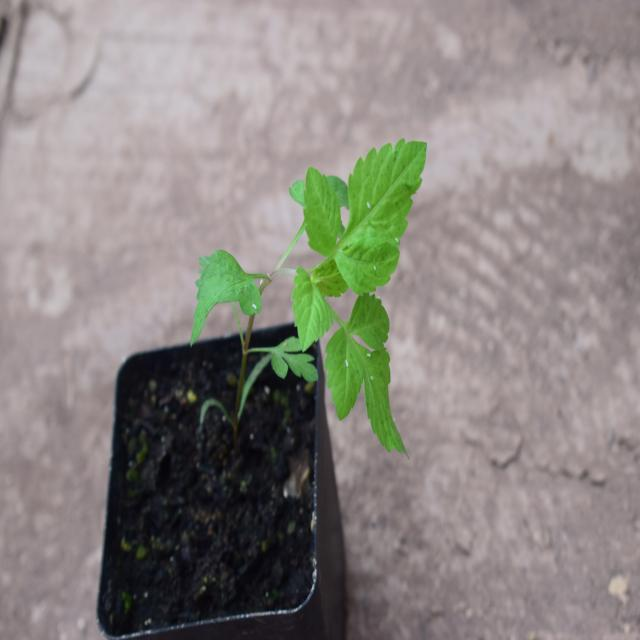Bidens pilosa: (202, 94, 441, 500)
